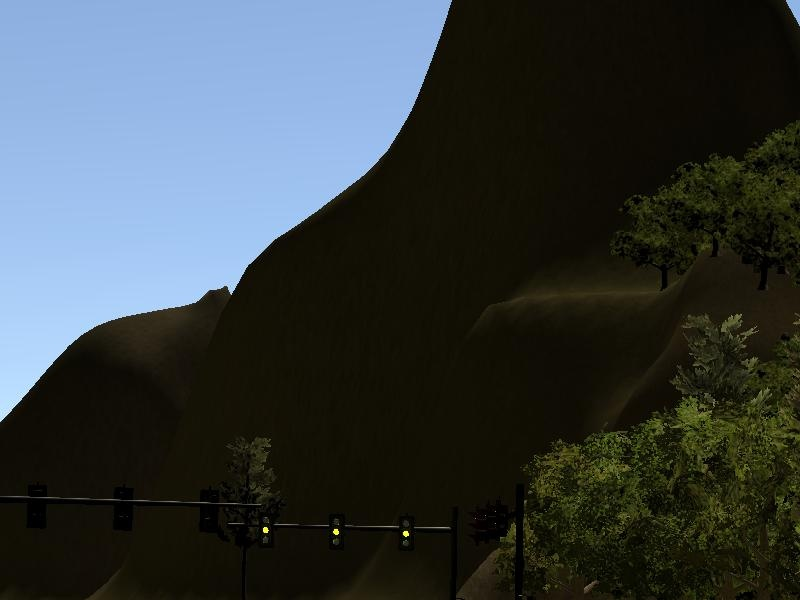YELLOW: (256, 509, 276, 549), (395, 514, 415, 551), (325, 512, 345, 549)
